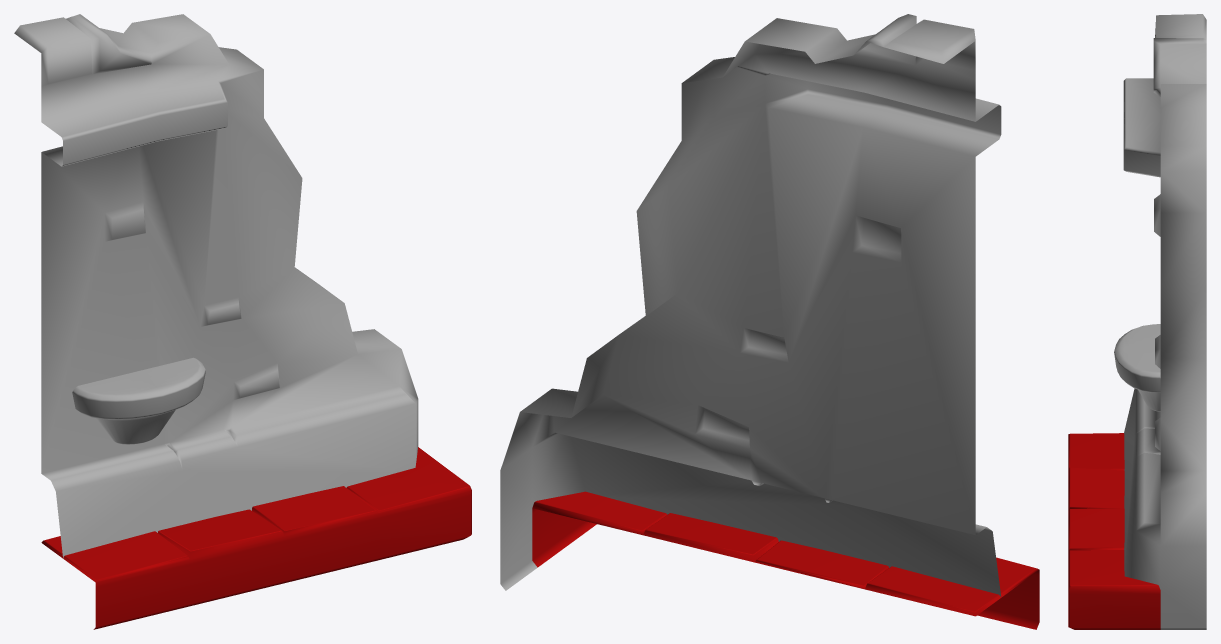
File: SM_castle_wall_end_low.fbx
3 renders of one model, left to right at view 1: azimuth 30°, elevation 25°; view 2: azimuth 150°, elevation 25°; view 3: azimuth 270°, elevation 25°, orthographic. The views are drawn at different scales.
Parts seen in each view (by area): view 1: SM_castle_wall_end_01_low, SM_castle_wall_end_floor_low, SM_castle_wall_end_02_low; view 2: SM_castle_wall_end_01_low, SM_castle_wall_end_floor_low; view 3: SM_castle_wall_end_01_low, SM_castle_wall_end_floor_low, SM_castle_wall_end_02_low.
Part boxes in pixels (x1,y1,x2,y2): SM_castle_wall_end_01_low: [14, 14, 418, 558]; SM_castle_wall_end_floor_low: [41, 447, 471, 629]; SM_castle_wall_end_02_low: [72, 357, 205, 444]; SM_castle_wall_end_01_low: [500, 14, 1001, 596]; SM_castle_wall_end_floor_low: [532, 491, 1039, 629]; SM_castle_wall_end_01_low: [1123, 14, 1206, 629]; SM_castle_wall_end_floor_low: [1068, 433, 1160, 629]; SM_castle_wall_end_02_low: [1114, 324, 1160, 411].
Size of the model in its own units: 400 by 555 by 150.
